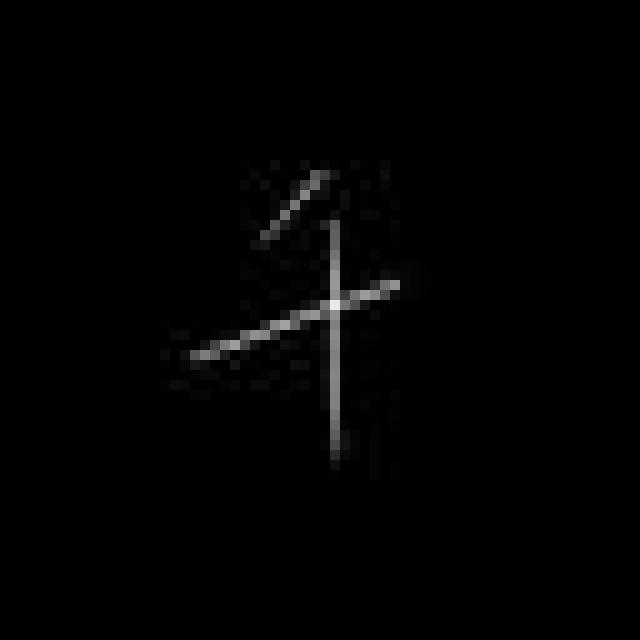1000 -a thousand-: (174, 153, 406, 467)
